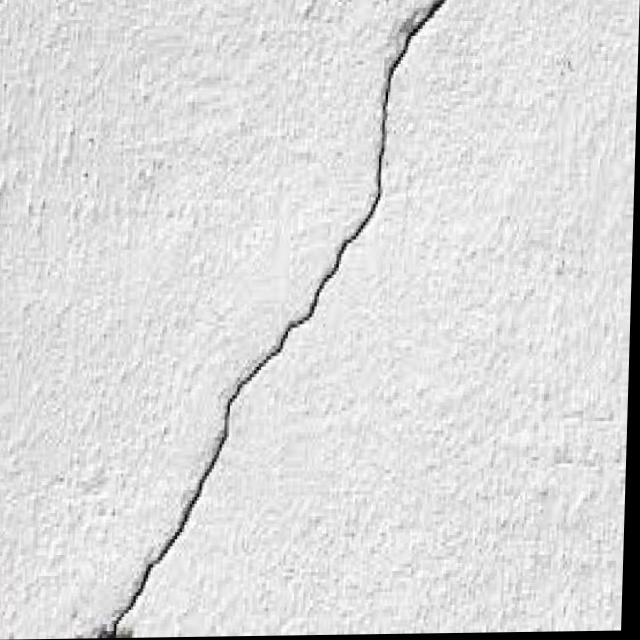Crack: (99, 0, 459, 639)
